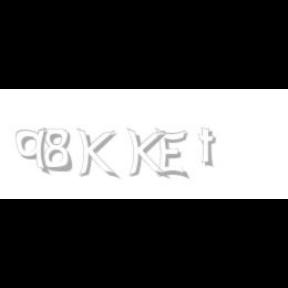8: (44, 128, 72, 172)
E: (156, 128, 188, 180)
K: (76, 128, 116, 180), (126, 128, 166, 180)
q: (15, 128, 51, 176)
t: (198, 128, 220, 168)
